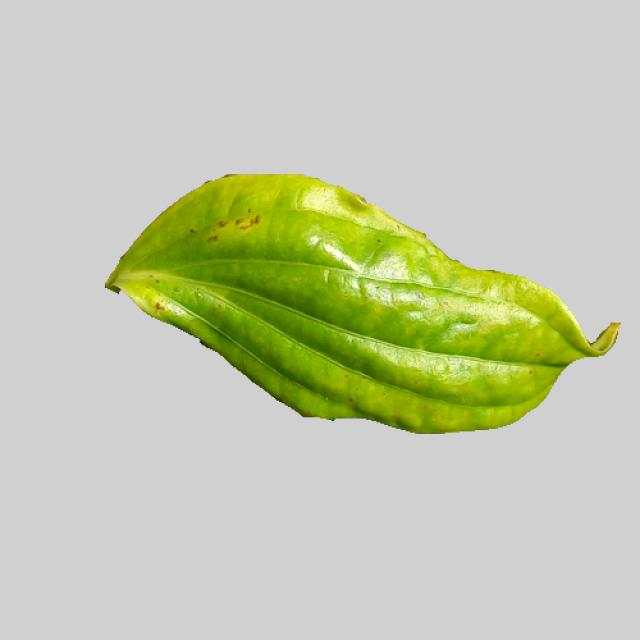yellow-mottle-virus: (102, 171, 620, 434)
